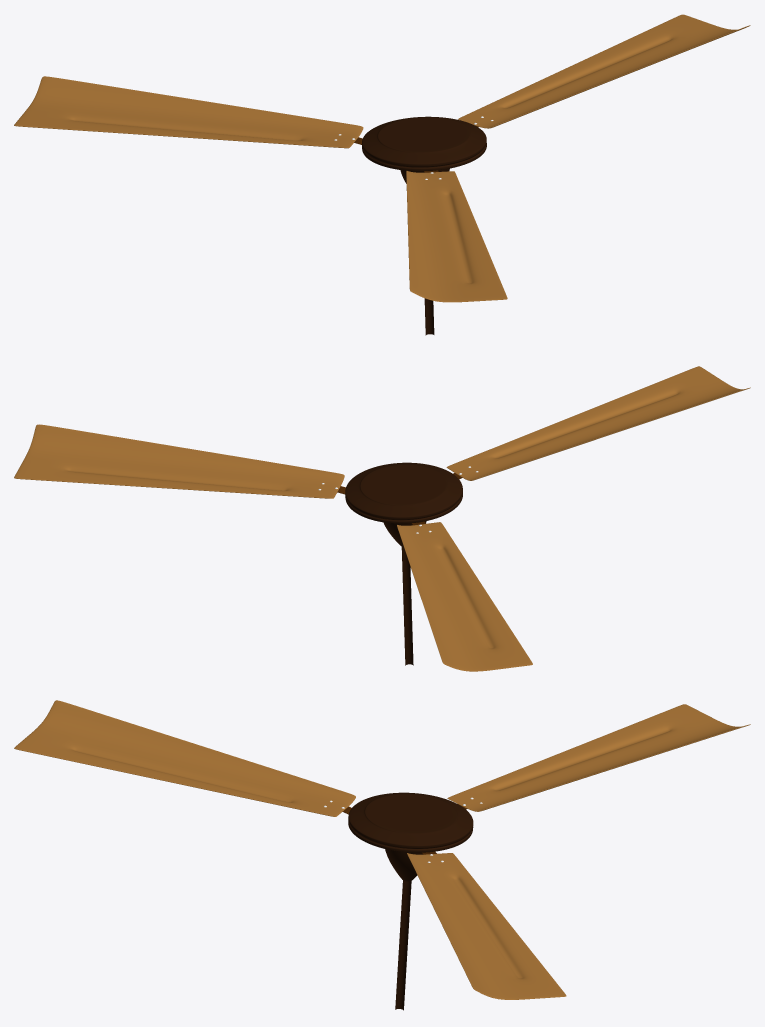
Rendered from Project Name.gltf.
The picture shows the model from 3 angles, top to bottom: view 1: azimuth 30°, elevation 25°; view 2: azimuth 150°, elevation 25°; view 3: azimuth 270°, elevation 25°; orthographic projection. The views are drawn at different scales.
Parts seen in each view (by area): view 1: Plane.004_Plane.005, Plane.002_Plane.003, Plane_Plane.001, Buffer Object; view 2: Plane_Plane.001, Plane.004_Plane.005, Plane.002_Plane.003, Buffer Object, Circle.001; view 3: Plane.002_Plane.003, Plane_Plane.001, Plane.004_Plane.005, Buffer Object, Circle.001.
Part boxes in pixels (box(x1,y1,x2,y2)): Plane.004_Plane.005: box(14, 76, 363, 148); Plane.002_Plane.003: box(406, 171, 507, 302); Plane_Plane.001: box(458, 14, 750, 128); Buffer Object: box(362, 116, 486, 171); Plane_Plane.001: box(14, 424, 344, 498); Plane.004_Plane.005: box(397, 522, 532, 671); Plane.002_Plane.003: box(446, 366, 750, 480); Buffer Object: box(345, 462, 462, 523); Circle.001: box(383, 521, 426, 665); Plane.002_Plane.003: box(14, 700, 355, 816); Plane_Plane.001: box(407, 853, 566, 999); Plane.004_Plane.005: box(447, 704, 750, 811); Buffer Object: box(348, 792, 473, 852); Circle.001: box(385, 849, 422, 1010).
Size of the model in its own units: 0.0331 by 0.0109 by 0.0333.
